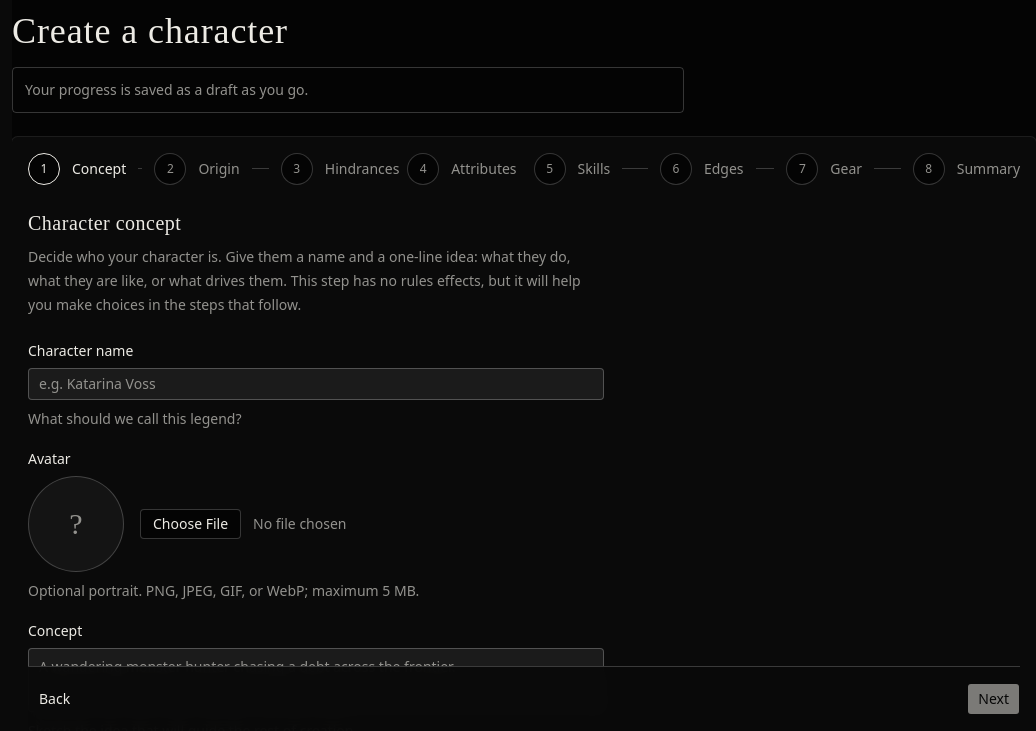
Test: NewCharacterRoute › keeps the hindrance point balance visible after the Hindrances step
In the field labelled "Character name": (316, 384) [28,368,604,400], type "Katarina Voss"
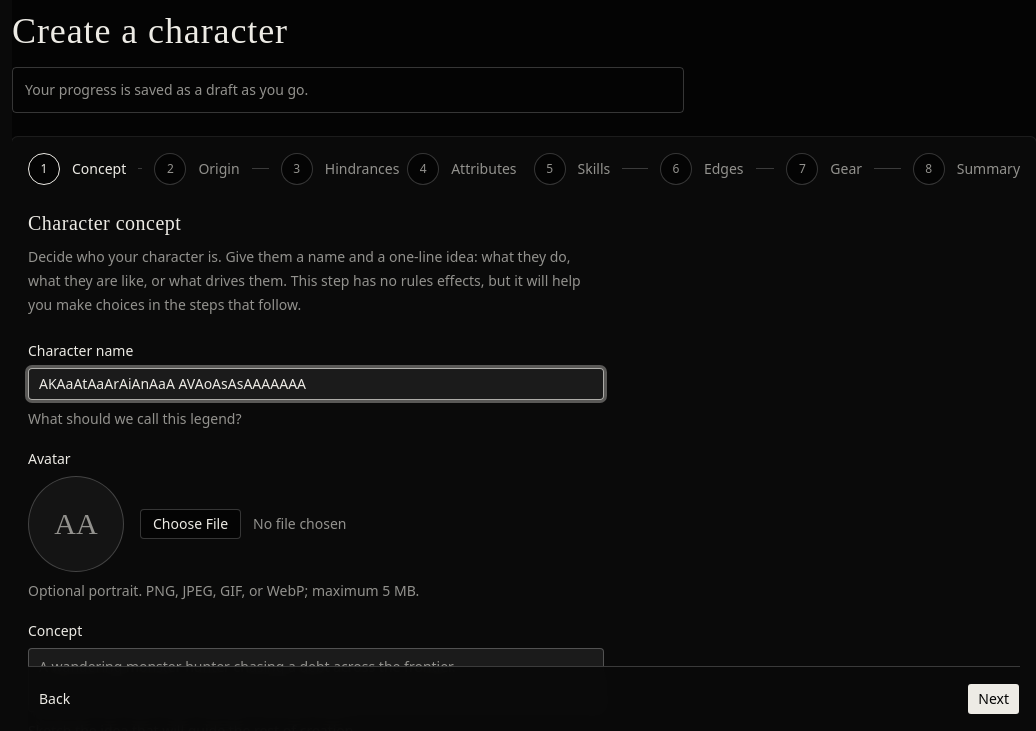
Click the button "Next": (994, 699) [967,683,1020,715]
(page scrolled)
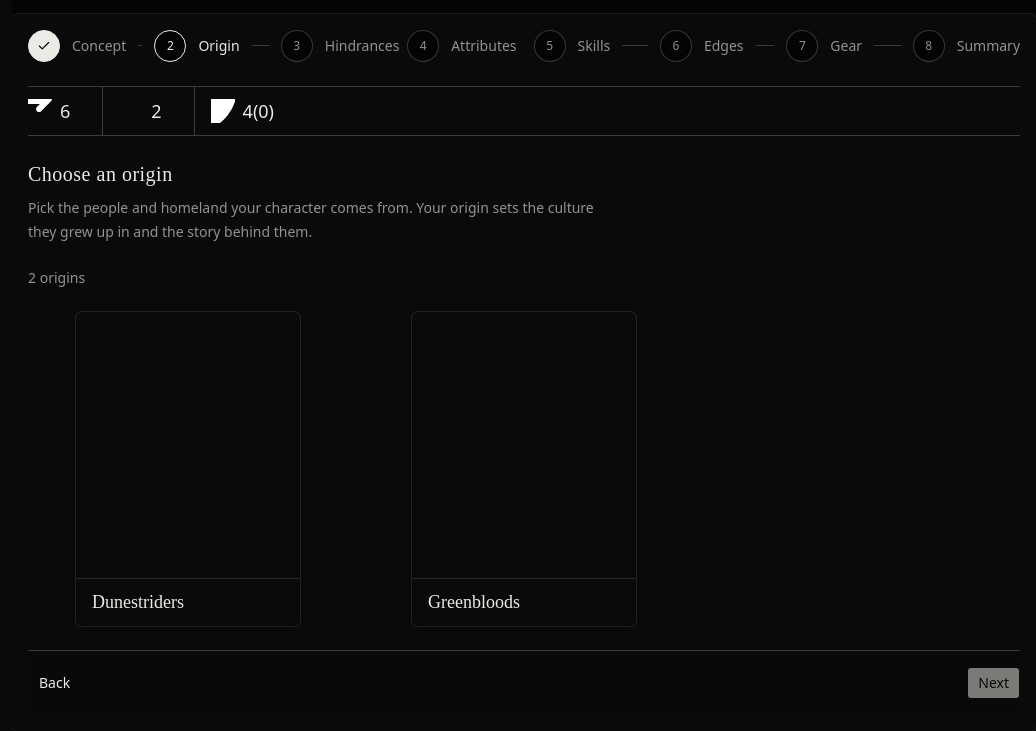
Click the button named "Dunestriders": (188, 469) [76,312,300,626]
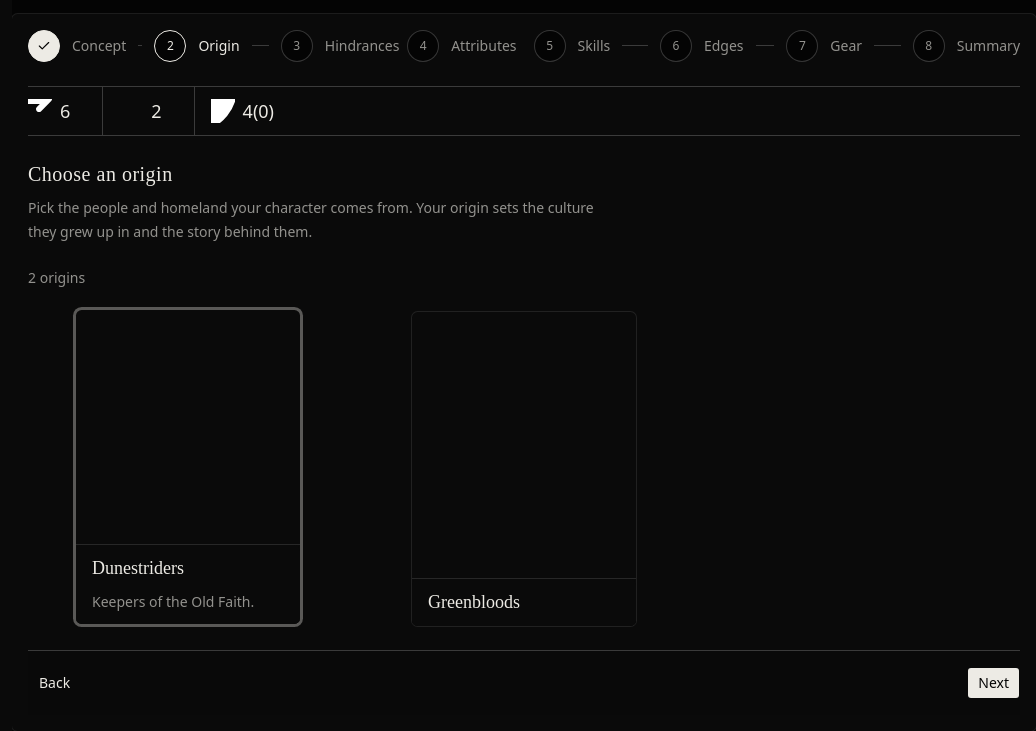
Click the button "Next": (994, 683) [967,667,1020,699]
(page scrolled)
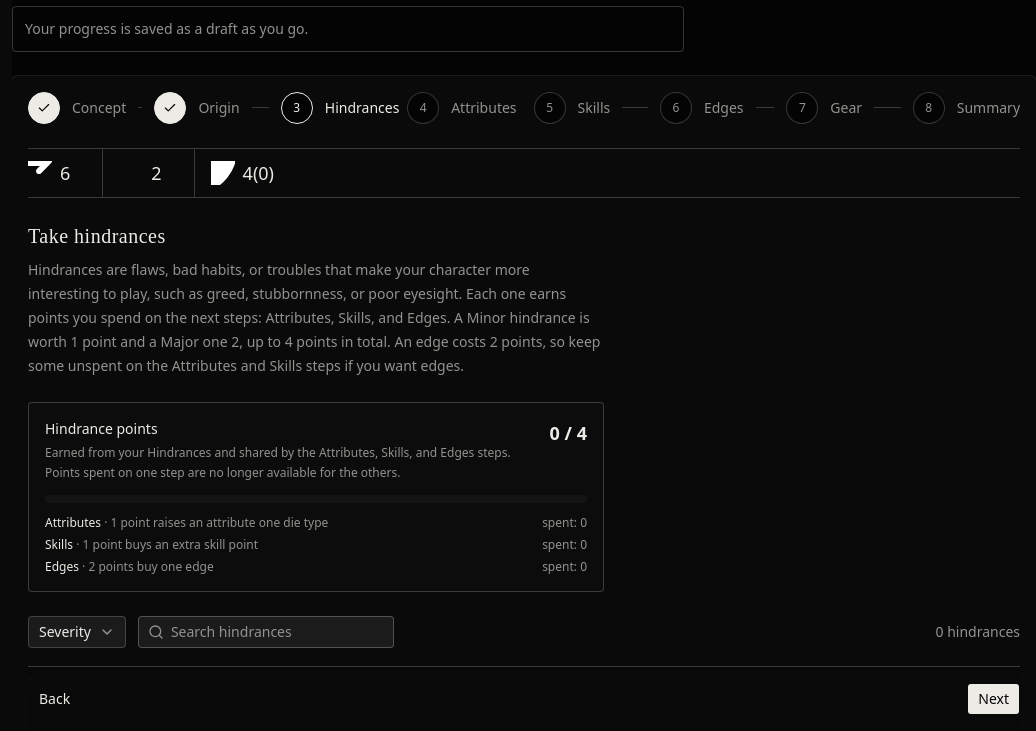
Click the button "Next": (994, 699) [967,683,1020,715]
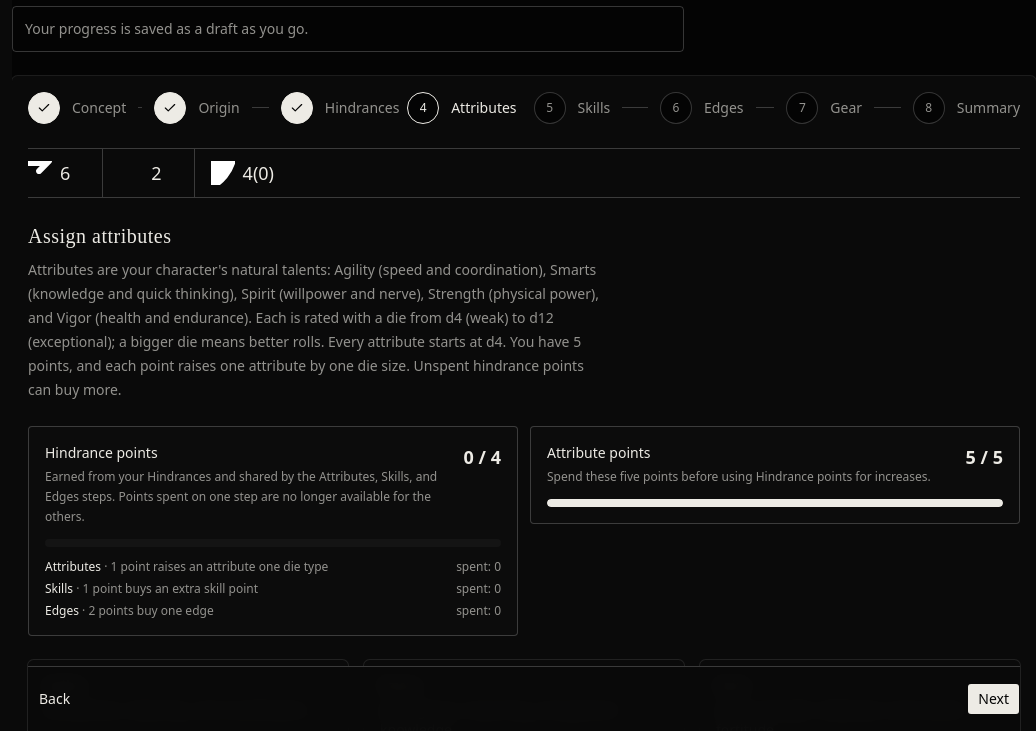
Expected: the text "Hindrance points" is shown, [45,443,158,462]
Expected: the text "0 / 4" is shown, [464,443,501,471]
Expected: the heading "Assign attributes" is shown, [28,225,172,247]
